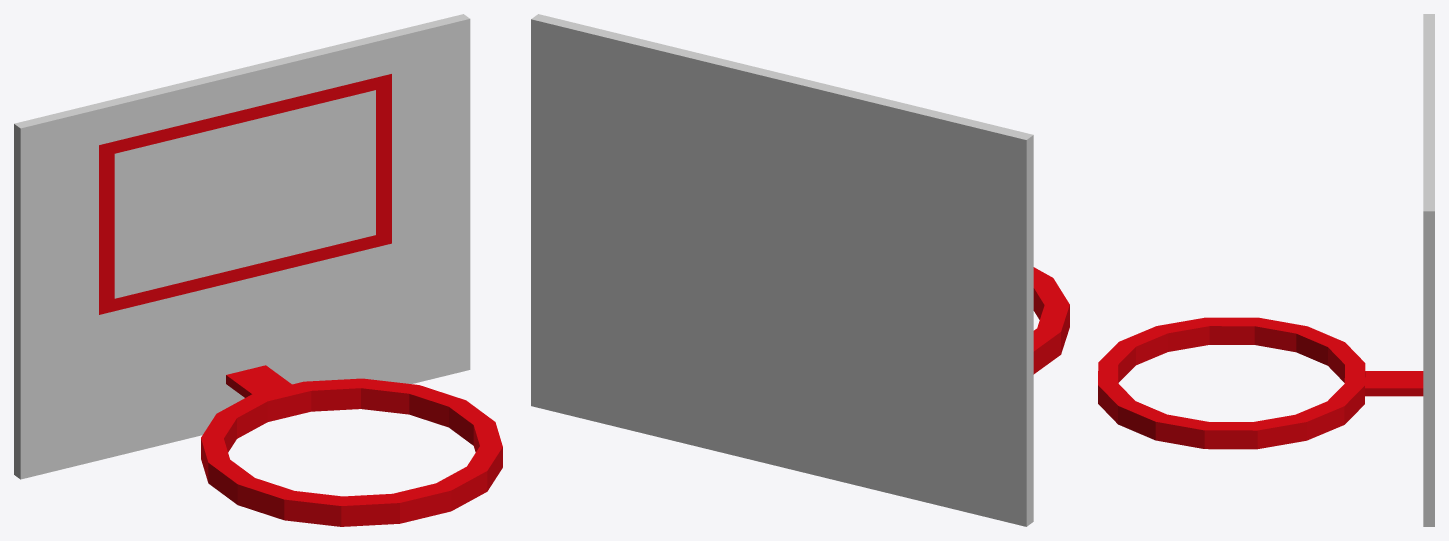
The model's file is hoop.fbx.
3 views of the same model, side by side, from view 1: azimuth 30°, elevation 25°; view 2: azimuth 150°, elevation 25°; view 3: azimuth 270°, elevation 25° (orthographic). The views are drawn at different scales.
Visible parts, largest first — view 1: Cube, Circle; view 2: Cube, Circle; view 3: Circle, Cube.
Boxes of the visible parts, x1=… form: Cube: x1=14, y1=14, x2=470, y2=479; Circle: x1=201, y1=365, x2=502, y2=526; Cube: x1=531, y1=14, x2=1033, y2=526; Circle: x1=1033, y1=267, x2=1069, y2=374; Circle: x1=1098, y1=317, x2=1423, y2=449; Cube: x1=1423, y1=14, x2=1434, y2=526.
Size of the model in its own units: 343 by 256 by 248.
